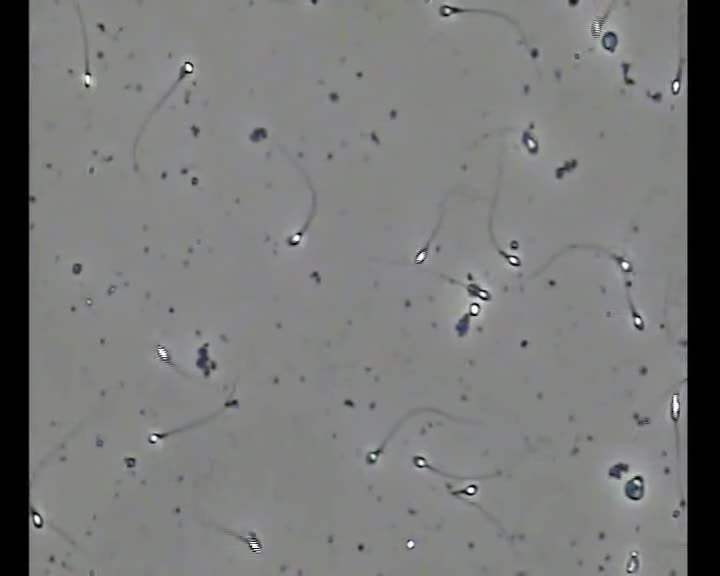spermhead: (625, 476, 644, 500), (521, 129, 538, 154), (625, 551, 639, 573), (438, 4, 461, 17), (615, 256, 632, 273), (155, 345, 171, 363), (503, 253, 521, 267), (670, 393, 679, 421), (632, 310, 644, 330), (31, 509, 43, 528), (180, 60, 194, 76), (670, 74, 681, 94), (82, 70, 94, 88), (287, 231, 302, 245), (366, 449, 380, 463), (147, 432, 163, 444), (413, 455, 427, 468), (415, 248, 427, 263), (462, 484, 478, 495), (469, 302, 480, 316), (224, 398, 238, 408), (405, 538, 415, 549)
